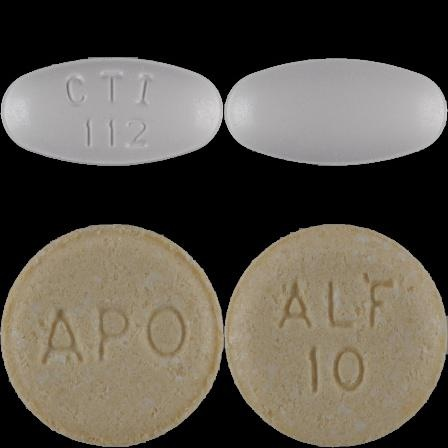42291-108: (0, 0, 224, 224)
